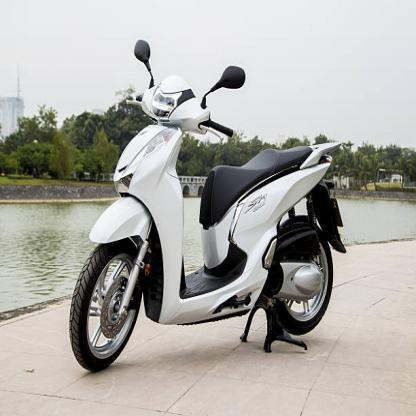Motorcycle: (64, 36, 351, 391)
